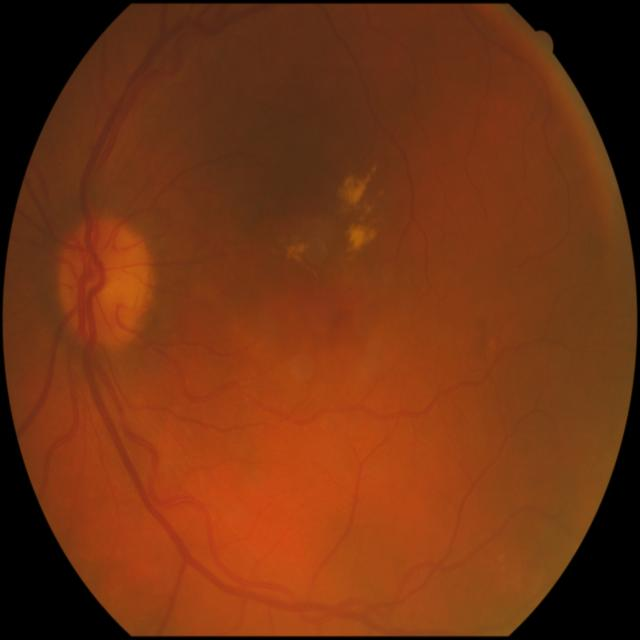OD: (55, 218, 150, 348)
